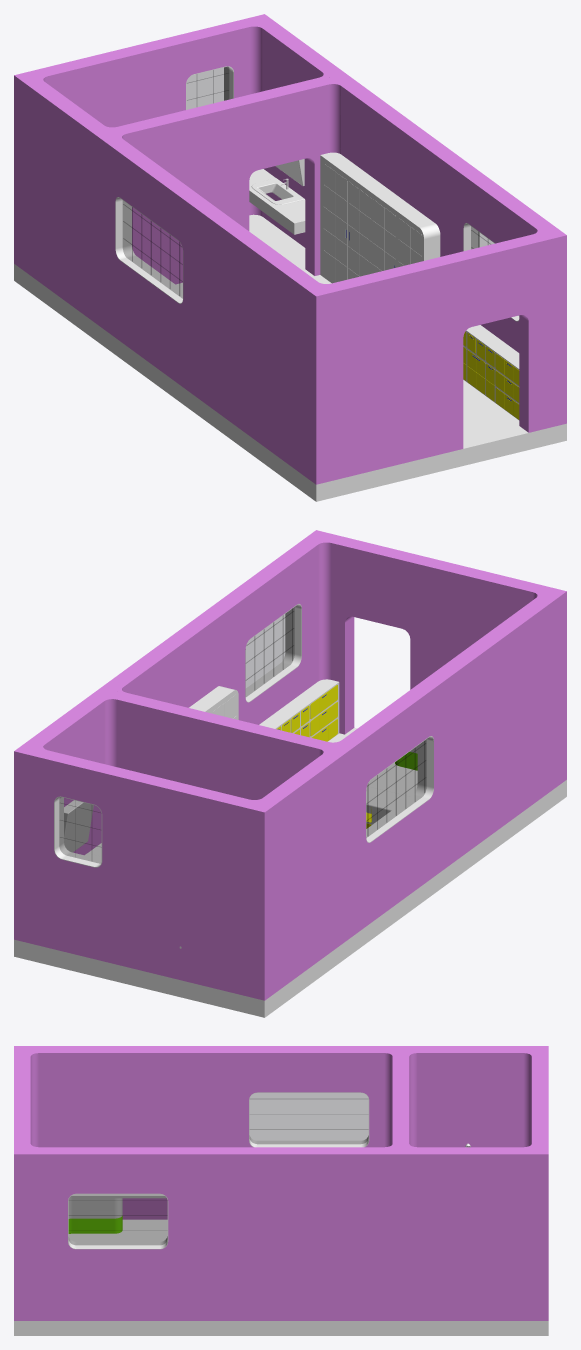
Rendered from mobility typeB OptionC.glb.
3 renders of one model, top to bottom at view 1: azimuth 30°, elevation 25°; view 2: azimuth 150°, elevation 25°; view 3: azimuth 270°, elevation 25°, orthographic. The views are drawn at different scales.
Visible parts, largest first — view 1: wall, floor, 衣柜柜门（木板）, 玻璃, 衣柜，木制或者整体性强的材质, 窗框（金属）, 柜门，区别于整体的柜子, 陶瓷（白色）, 橱柜，木制或者整体性强的材质; view 2: wall, floor, 玻璃, 窗框（金属）, 柜门，区别于整体的柜子, 橱柜，木制或者整体性强的材质, 镜子（玻璃, 岛台，木色或者和沙发底框一个颜色, 衣柜，木制或者整体性强的材质; view 3: wall, 玻璃, floor, 窗框（金属）, 沙发（软包，软垫，皮纹细腻）, 沙发硬边.
Part boxes in pixels (left/top/right/bottom): wall: left=14, top=14, right=566, bottom=484; floor: left=14, top=214, right=566, bottom=501; 衣柜柜门（木板）: left=323, top=163, right=421, bottom=282; 玻璃: left=123, top=67, right=493, bottom=298; 衣柜，木制或者整体性强的材质: left=320, top=152, right=440, bottom=283; 窗框（金属）: left=115, top=66, right=519, bottom=321; 柜门，区别于整体的柜子: left=463, top=331, right=519, bottom=419; 陶瓷（白色）: left=249, top=169, right=305, bottom=234; 橱柜，木制或者整体性强的材质: left=463, top=325, right=519, bottom=420; wall: left=14, top=530, right=566, bottom=1000; floor: left=14, top=727, right=566, bottom=1017; 玻璃: left=59, top=607, right=426, bottom=863; 窗框（金属）: left=54, top=604, right=433, bottom=867; 柜门，区别于整体的柜子: left=277, top=685, right=371, bottom=828; 橱柜，木制或者整体性强的材质: left=259, top=679, right=339, bottom=741; 镜子（玻璃: left=64, top=800, right=93, bottom=852; 岛台，木色或者和沙发底框一个颜色: left=366, top=786, right=410, bottom=825; 衣柜，木制或者整体性强的材质: left=189, top=686, right=238, bottom=719; wall: left=14, top=1046, right=548, bottom=1320; 玻璃: left=69, top=1093, right=368, bottom=1244; floor: left=14, top=1219, right=548, bottom=1335; 窗框（金属）: left=68, top=1092, right=369, bottom=1249; 沙发（软包，软垫，皮纹细腻）: left=68, top=1194, right=122, bottom=1218; 沙发硬边: left=68, top=1216, right=122, bottom=1233.
Size of the model in its own units: 4.6 by 3.6 by 9.93.
